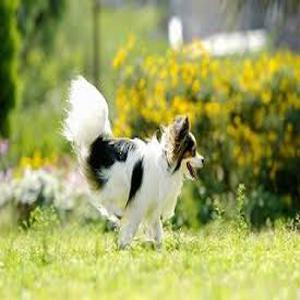yell: (63, 75, 203, 250)
